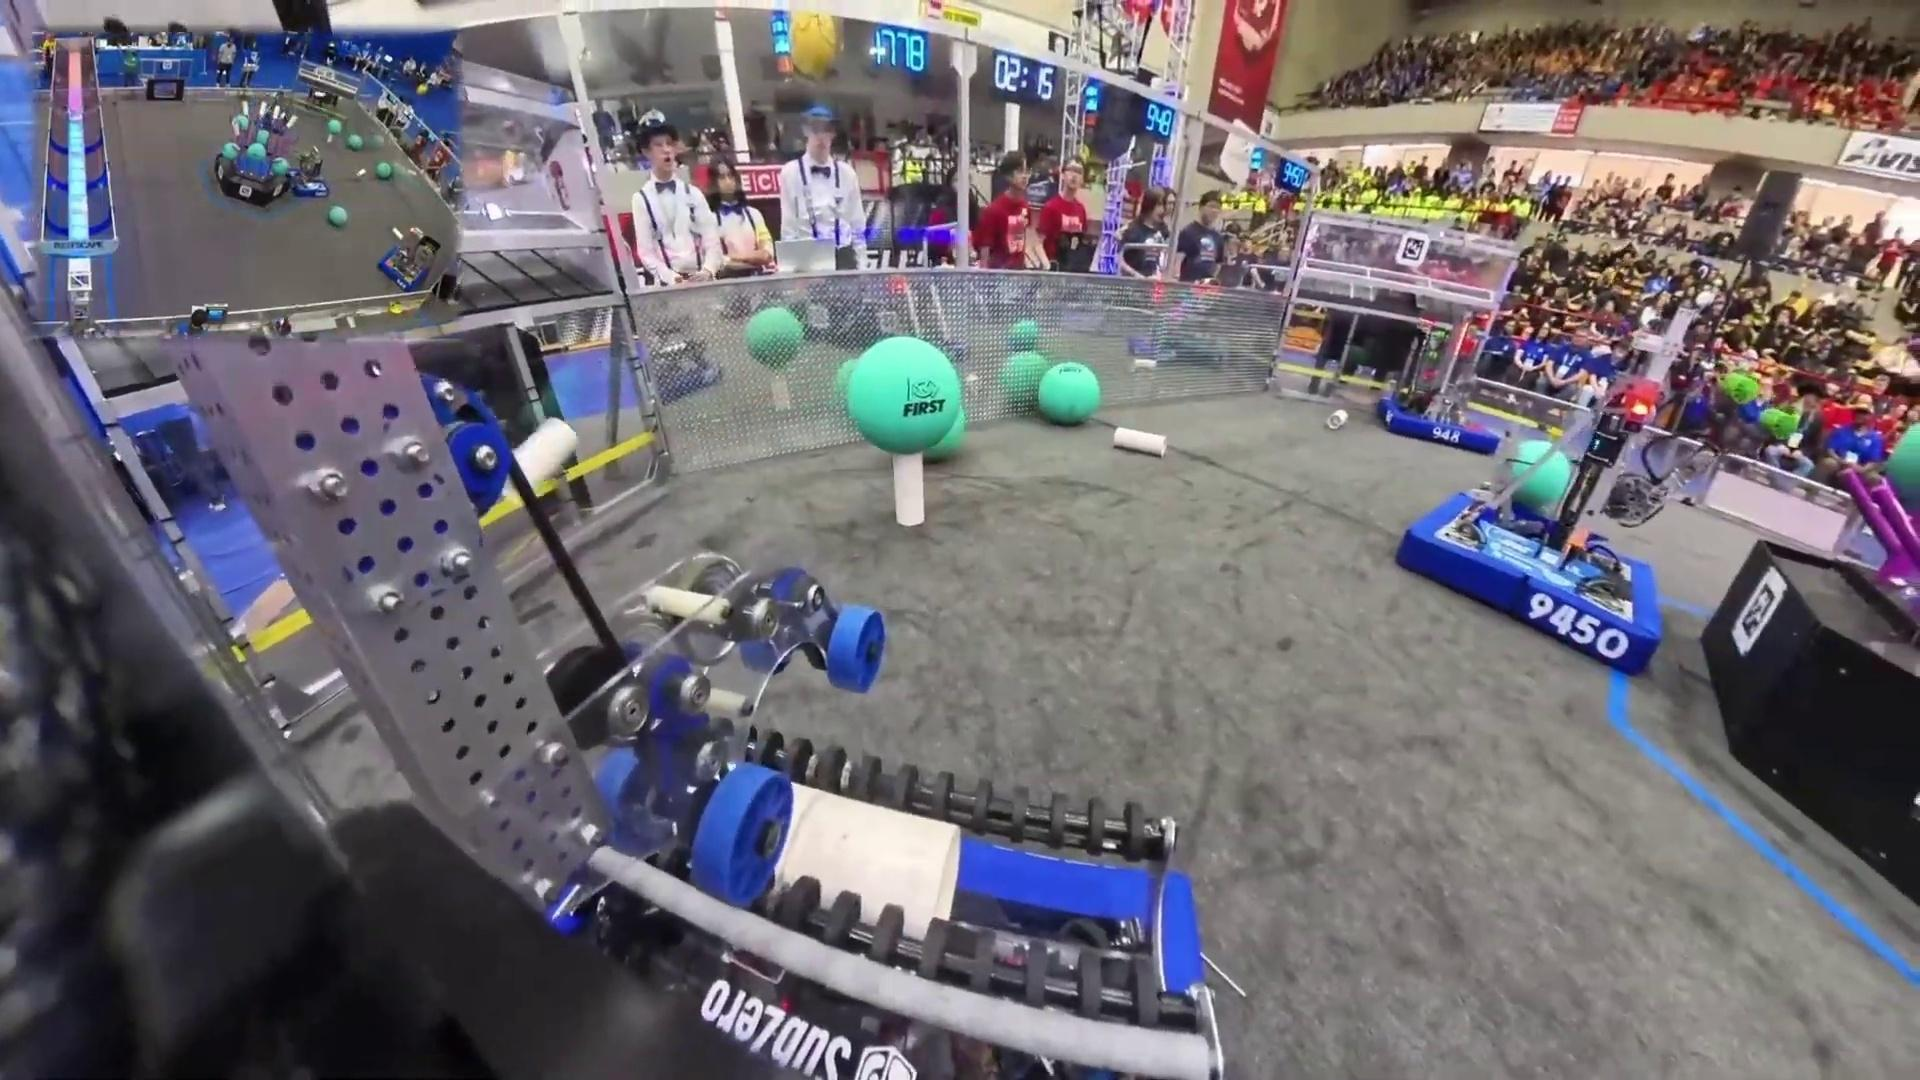robot: (1394, 326, 1667, 678), (1375, 309, 1506, 456), (377, 227, 444, 286), (290, 148, 331, 199)
